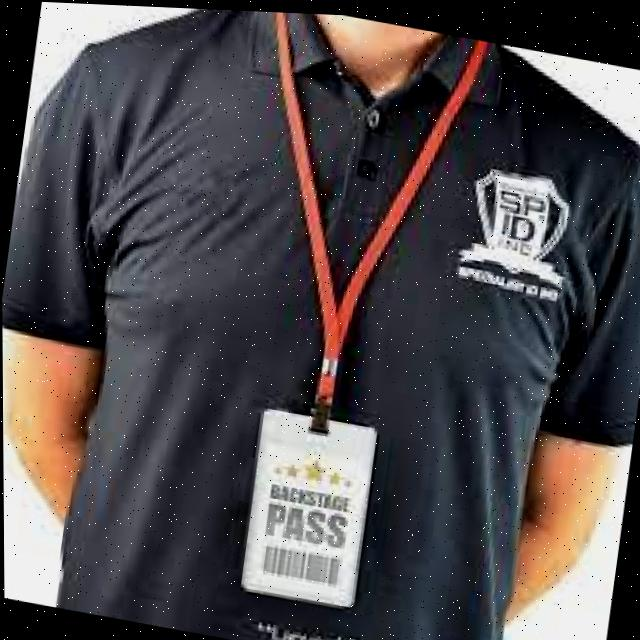id_card: (188, 12, 473, 624)
